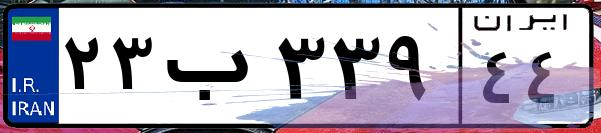2: (57, 26, 110, 100)
3: (270, 28, 330, 110), (330, 28, 385, 110), (110, 28, 158, 98)
4: (475, 38, 525, 113), (525, 38, 570, 115)
9: (385, 28, 445, 110)
ب: (158, 20, 270, 120)
